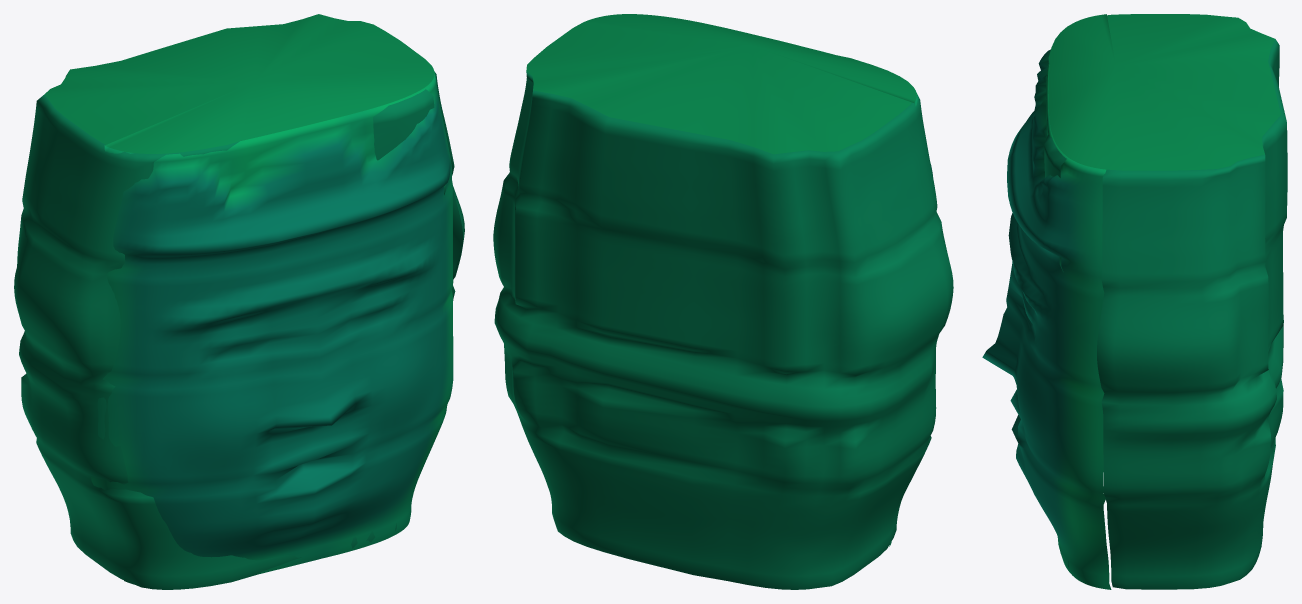
File: watcher_head_b.glb
The picture shows the model from 3 angles, left to right: view 1: azimuth 30°, elevation 25°; view 2: azimuth 150°, elevation 25°; view 3: azimuth 270°, elevation 25°; orthographic projection. The views are drawn at different scales.
Parts seen in each view (by area): view 1: watcher_head_b; view 2: watcher_head_b; view 3: watcher_head_b.
Part boxes in pixels (box(x1,y1,x2,y2)): watcher_head_b: box(14, 14, 464, 589); watcher_head_b: box(493, 14, 953, 589); watcher_head_b: box(982, 14, 1287, 589).
Size of what is drawn, in the model's own units: 2.33 by 2.52 by 1.54.
